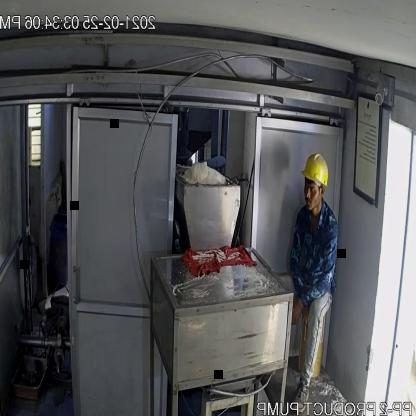helmet: (301, 151, 330, 187)
